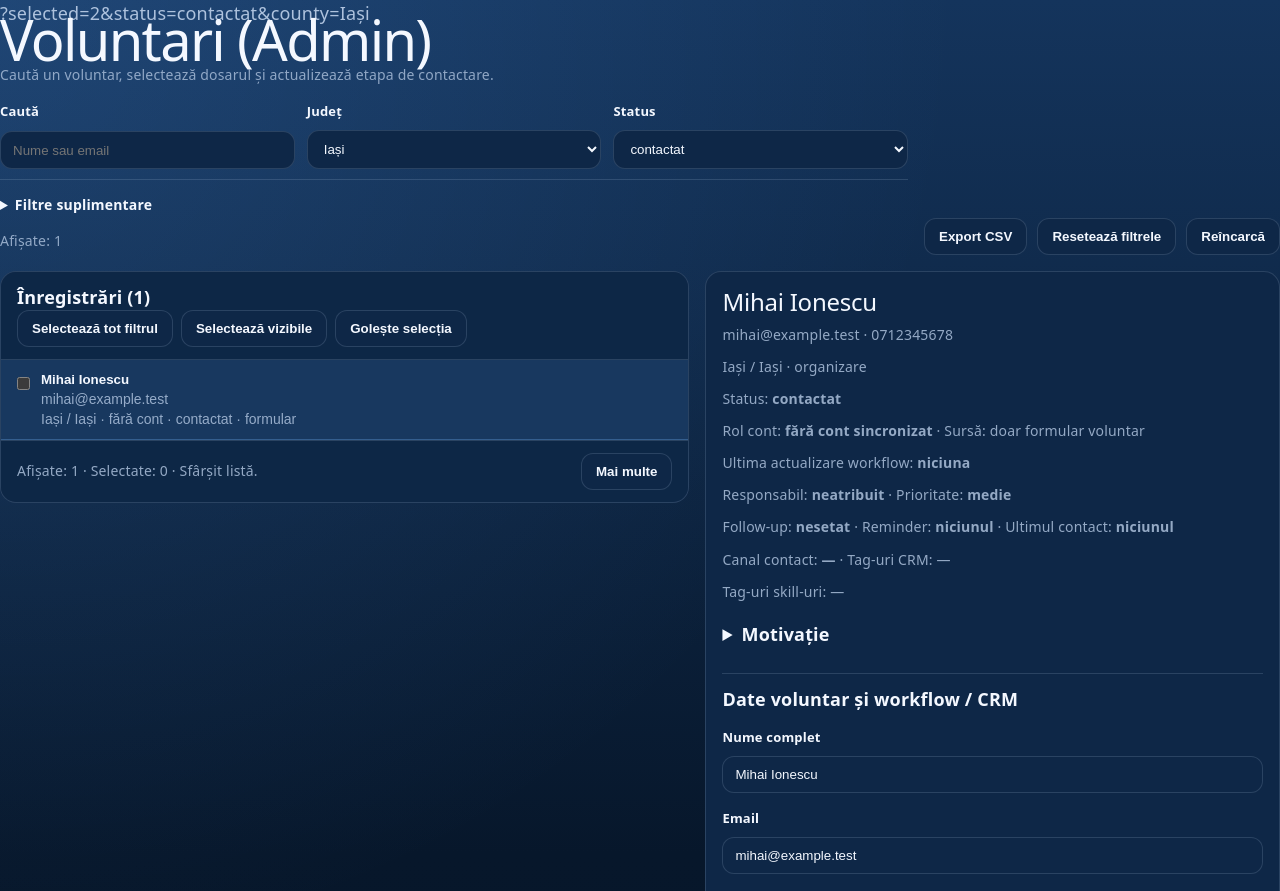
VolunteersAdminPage › deletes all filtered volunteer forms and clears the selected volunteer when it matches the filter
The width and height of the screenshot is (1280, 891).
What coordinates should you click on to do the following:
click the button "Selectează tot filtrul"
I would click on:
 (95, 328)
Its box is [17, 310, 173, 347].
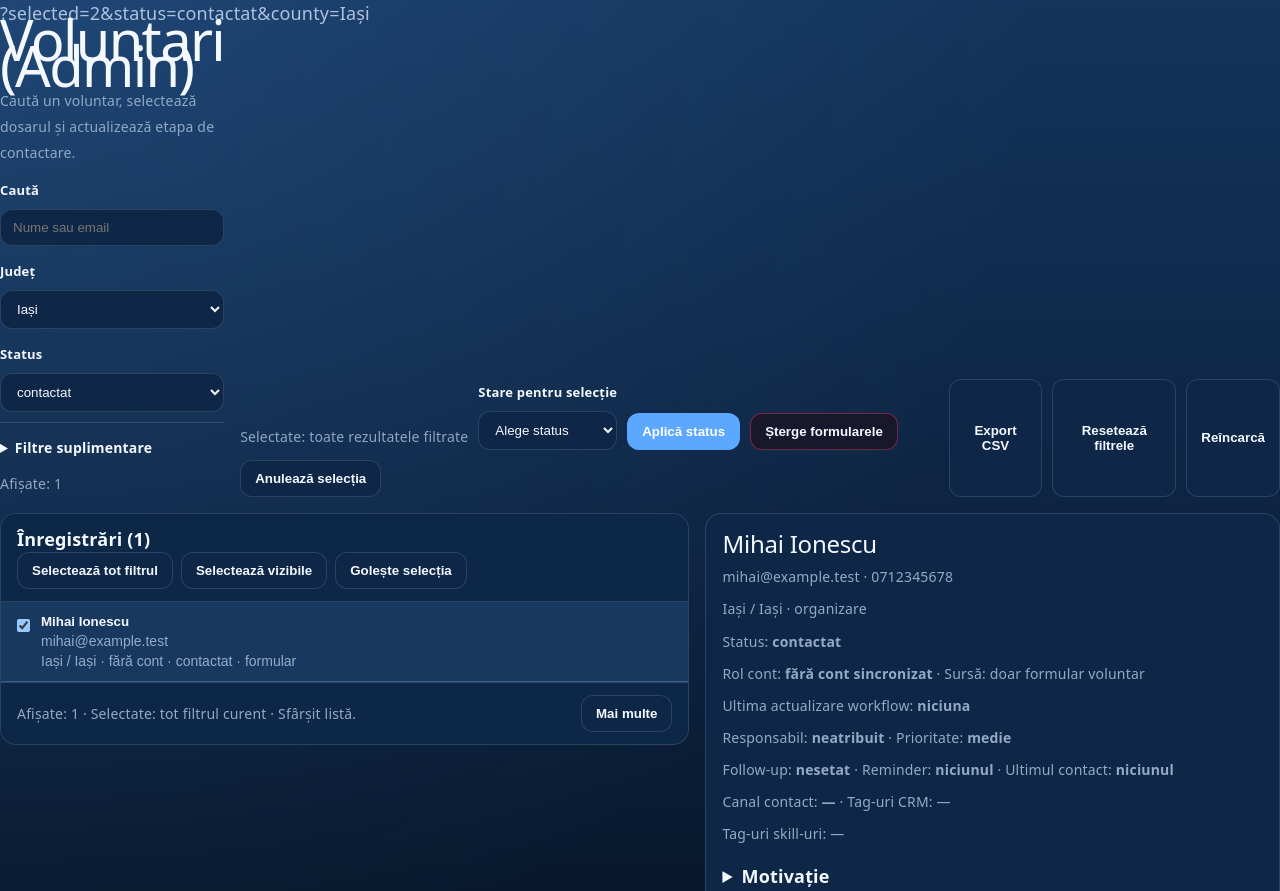
What coordinates should you click on to do the following:
click the button "Șterge formularele"
I would click on:
 (824, 432)
Its box is [750, 413, 898, 450].
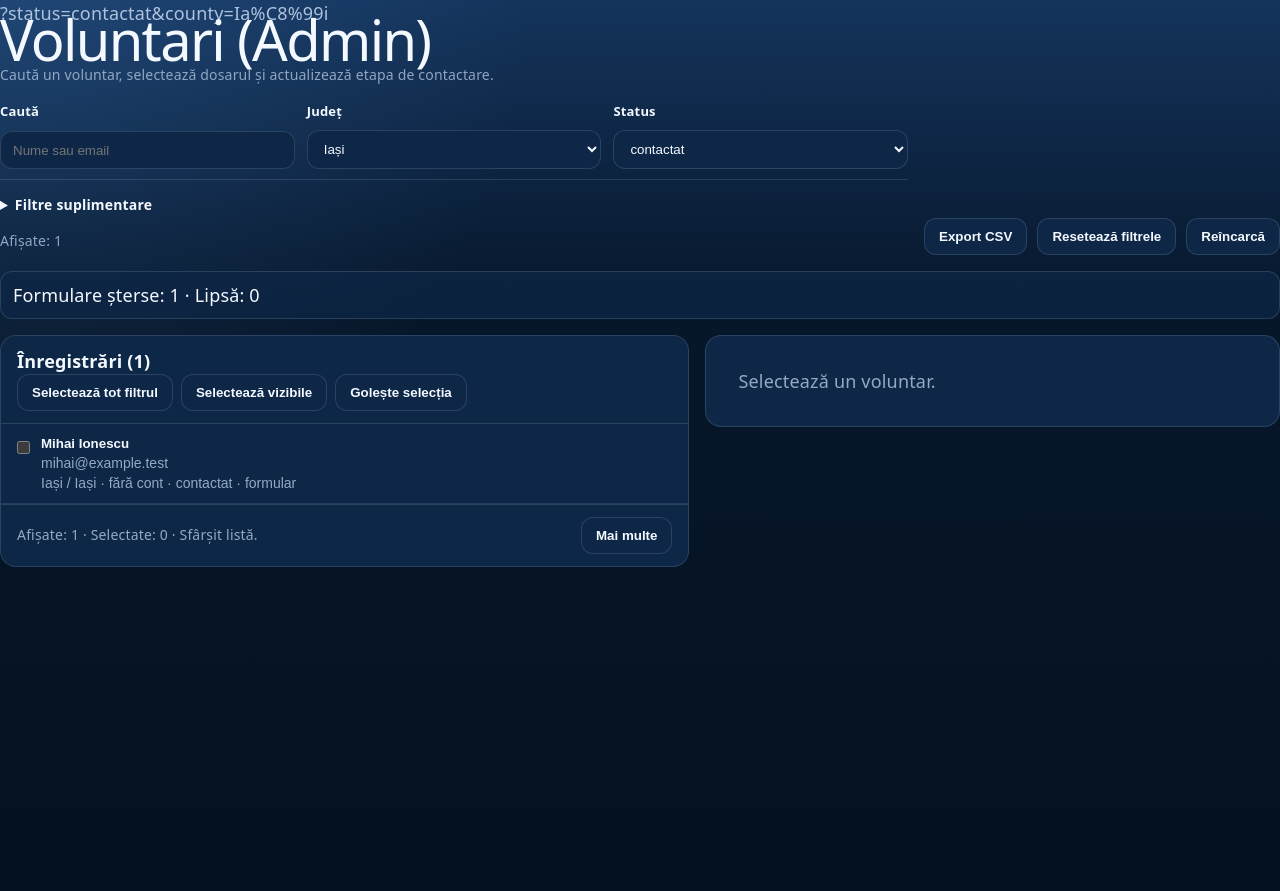
Check: the text with test id "location-search" reads "?status=contactat&county=Ia%C8%99i", box [0, 1, 329, 25]
Check: the text "Selectează un voluntar." is shown, box [738, 369, 936, 393]
